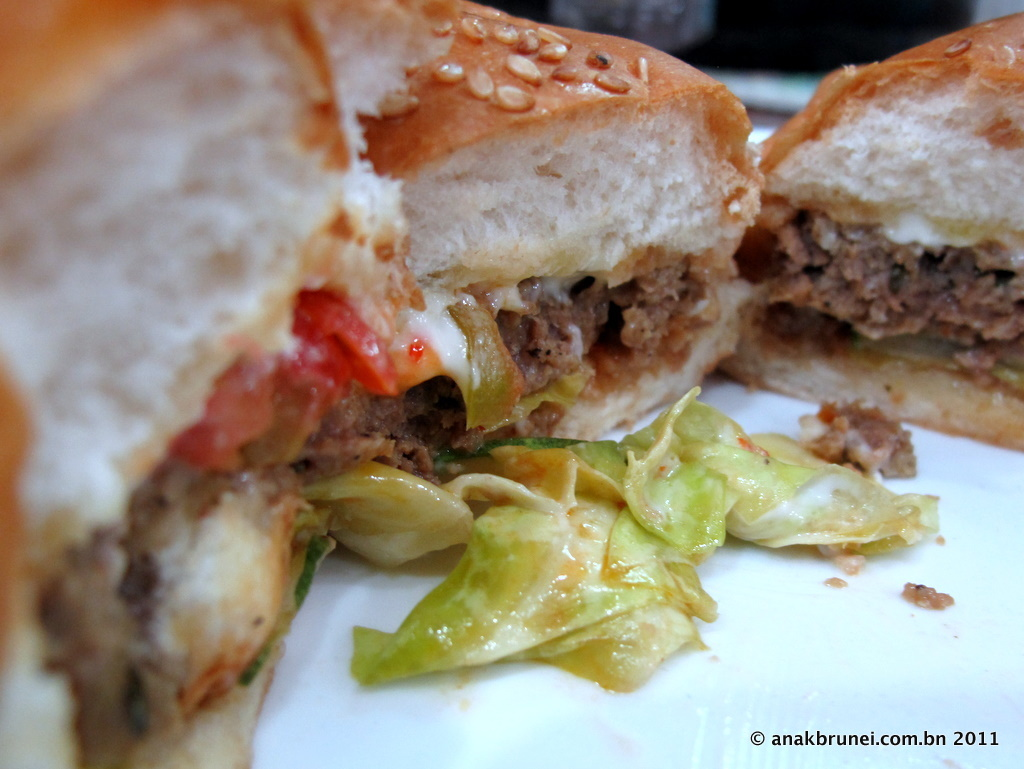Hamburger: (0, 0, 762, 768), (714, 15, 1022, 448)
